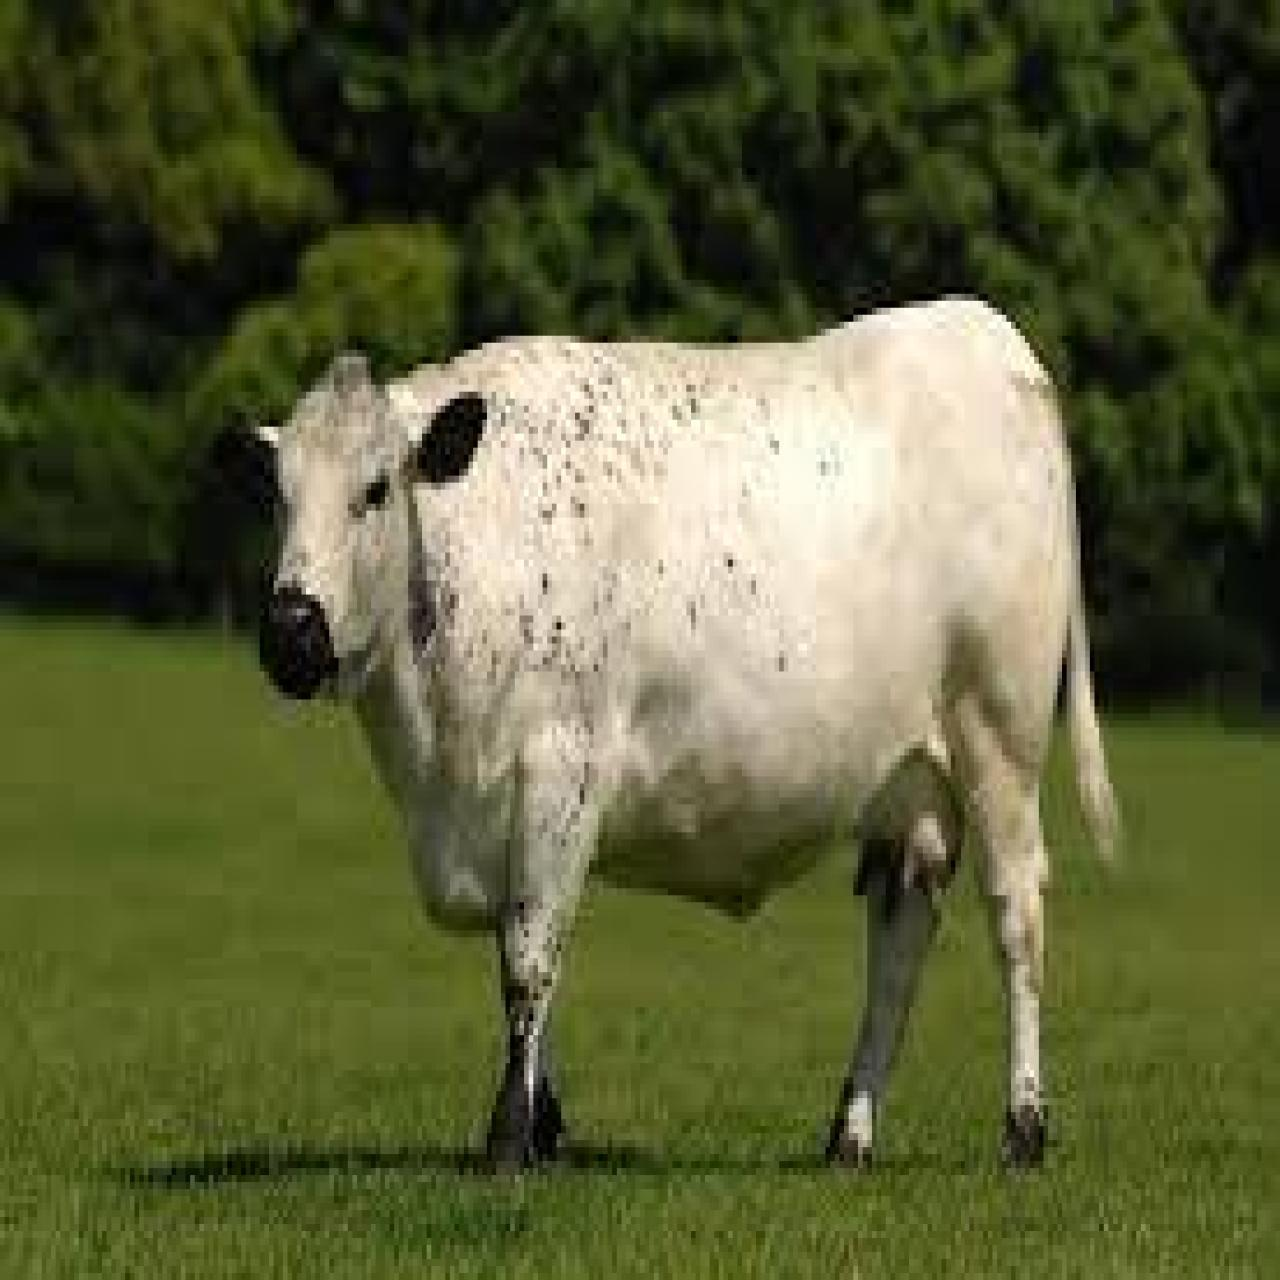cow: (253, 298, 1121, 1172)
